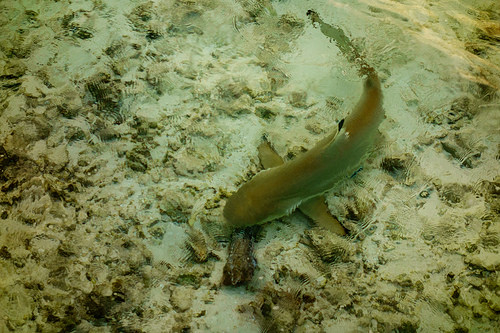shark: (189, 10, 425, 248)
